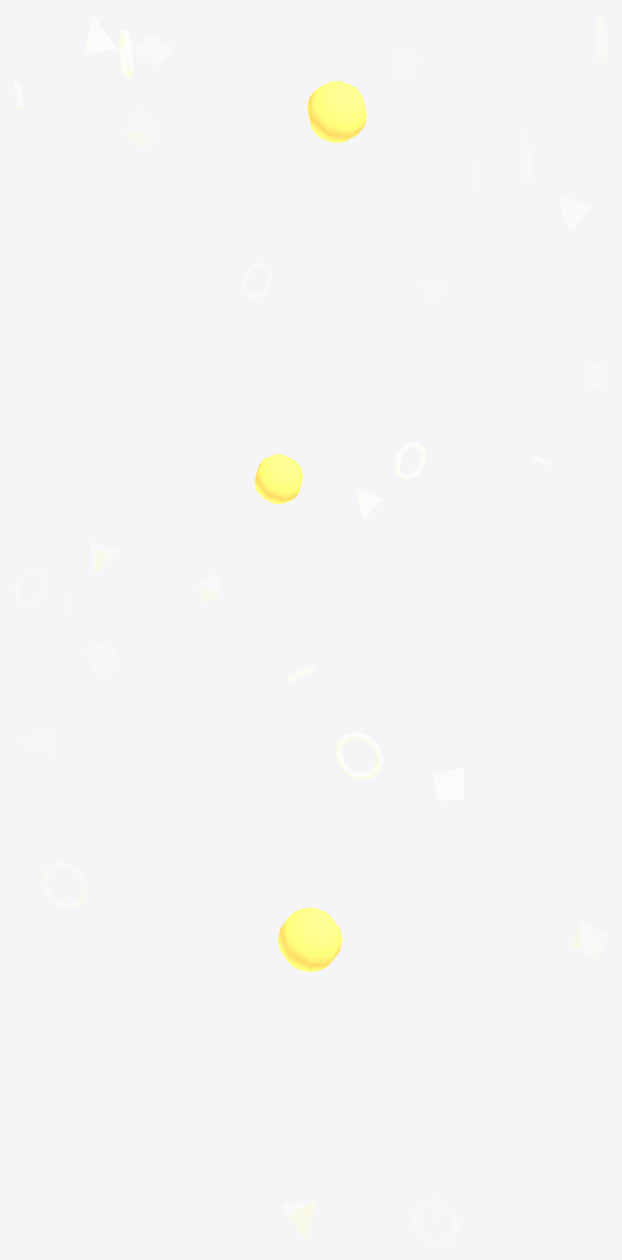
File: sigil.glb
3 renders of one model, top to bottom at view 1: azimuth 30°, elevation 25°; view 2: azimuth 150°, elevation 25°; view 3: azimuth 270°, elevation 25°, orthographic. The views are drawn at different scales.
Size of the model in its own units: 0.9423 by 0.5406 by 0.7944.
